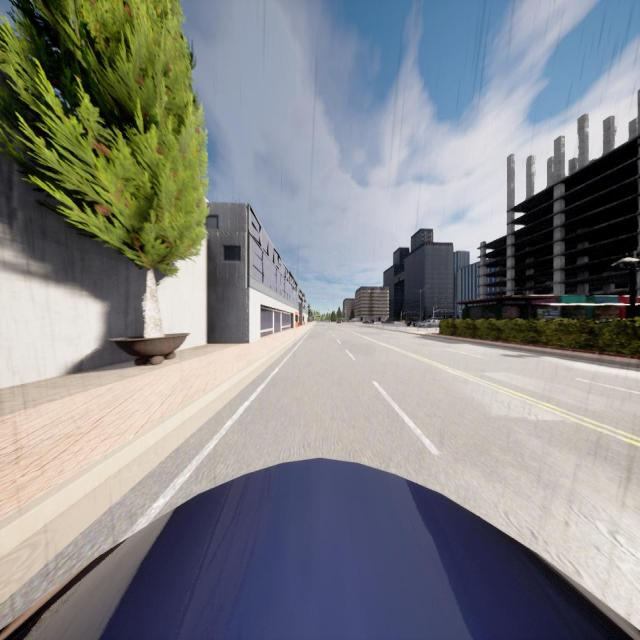Vehicle: (0, 458, 640, 640), (420, 316, 440, 328), (406, 316, 419, 328), (362, 319, 374, 324), (337, 319, 342, 324)
